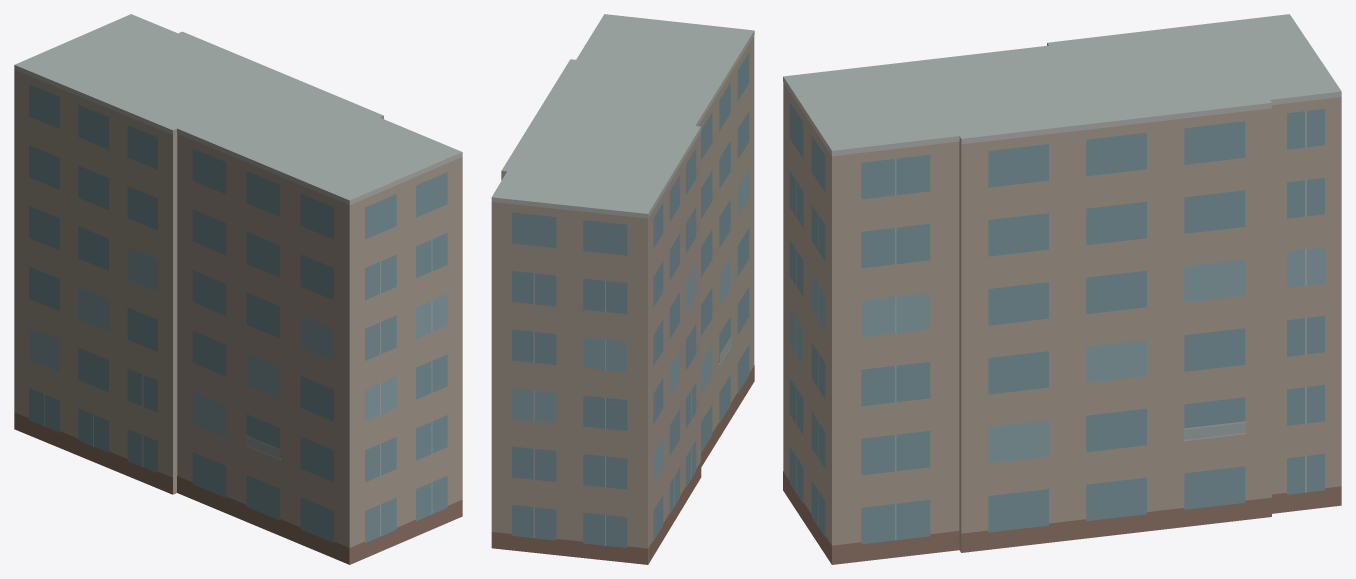
The model's file is survey-upis-32562695.glb.
3 renders of one model, left to right at view 1: azimuth 30°, elevation 25°; view 2: azimuth 150°, elevation 25°; view 3: azimuth 270°, elevation 25°, orthographic. The views are drawn at different scales.
Parts seen in each view (by area): view 1: survey-upis-32562695.tmp; view 2: survey-upis-32562695.tmp; view 3: survey-upis-32562695.tmp.
Boxes of the visible parts, x1,y1,x2,y2 form: survey-upis-32562695.tmp: (14, 14, 462, 564); survey-upis-32562695.tmp: (491, 14, 754, 564); survey-upis-32562695.tmp: (783, 14, 1341, 564).
Size of the model in its own units: 13.2 by 18.6 by 22.75.
